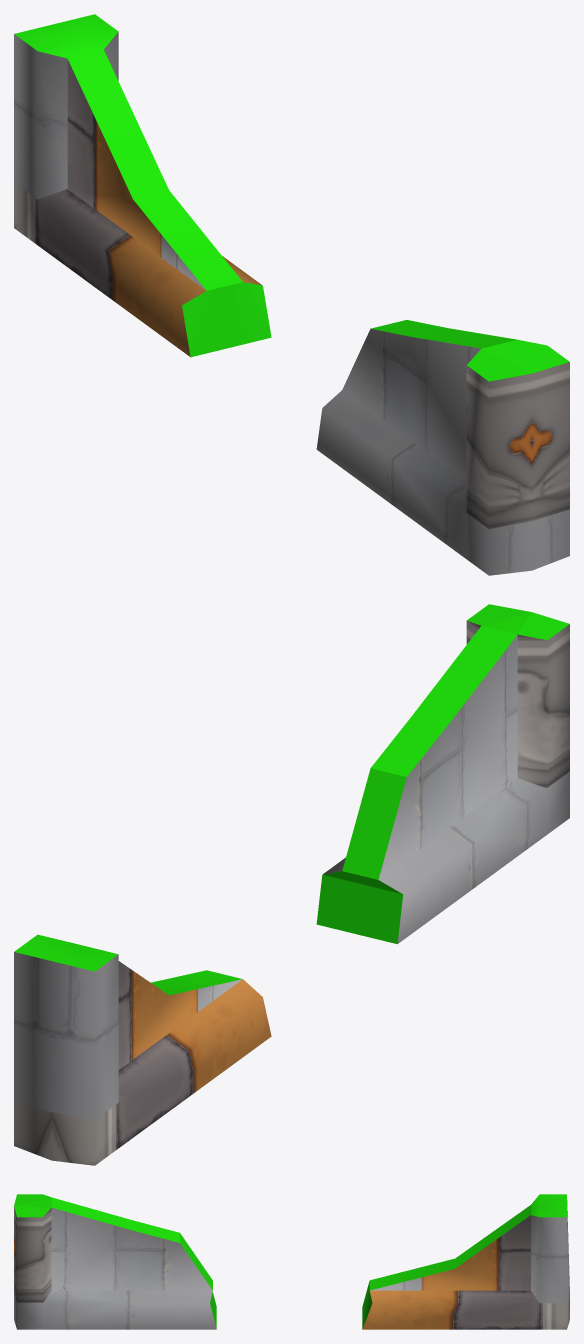
File: SM_Fresque_Broken.fbx
The picture shows the model from 3 angles, top to bottom: view 1: azimuth 30°, elevation 25°; view 2: azimuth 150°, elevation 25°; view 3: azimuth 270°, elevation 25°; orthographic projection. The views are drawn at different scales.
Visible parts, largest first — view 1: SM_Fresque_Broken; view 2: SM_Fresque_Broken; view 3: SM_Fresque_Broken.
Boxes of the visible parts, x1,y1,x2,y2 form: SM_Fresque_Broken: (14,14,569,575); SM_Fresque_Broken: (14,604,569,1165); SM_Fresque_Broken: (14,1194,569,1329).
Size of the model in its own units: 0.7787 by 1.86 by 8.
